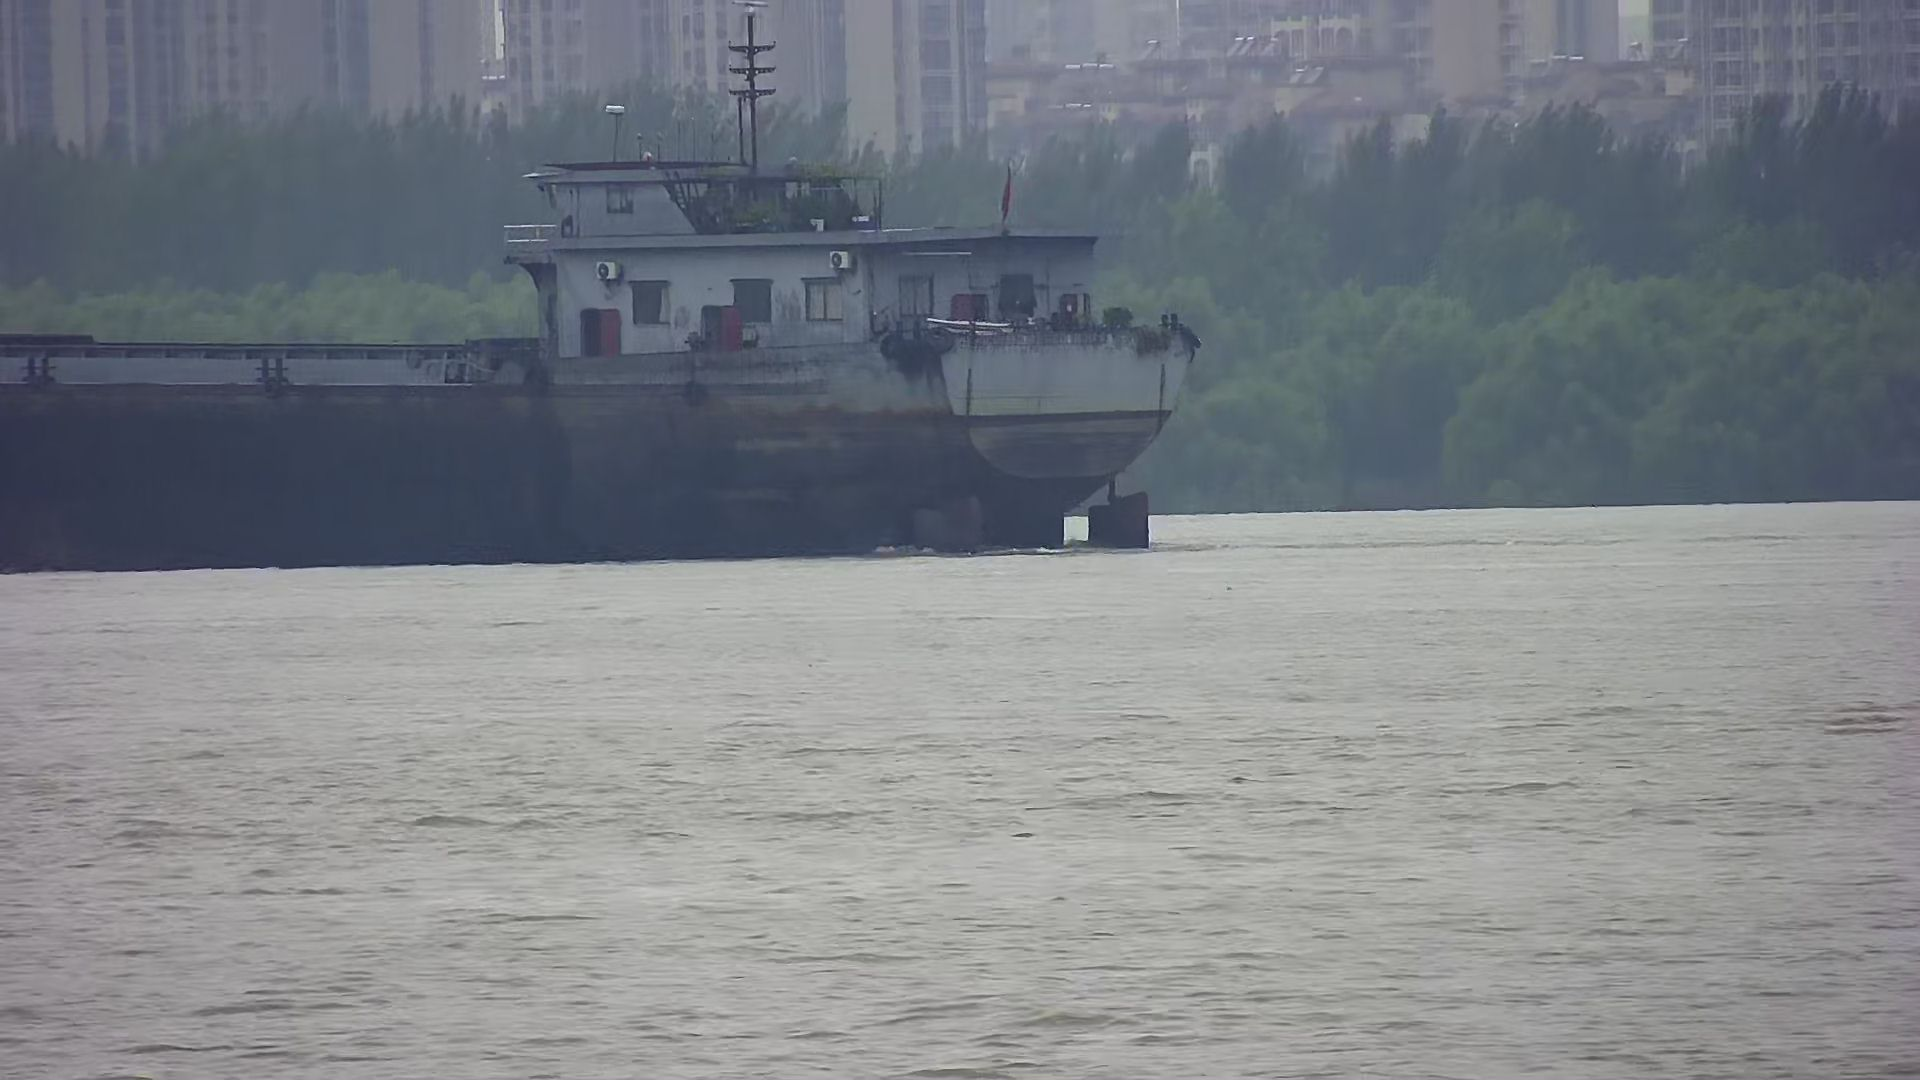ship: (1, 102, 1200, 575)
